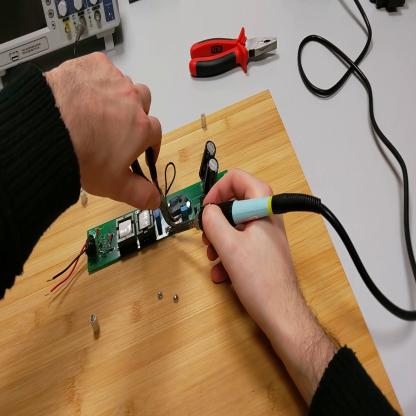hand: (42, 53, 171, 214), (201, 169, 302, 332)
high voltage board: (45, 142, 228, 297)
oscilloscope: (2, 2, 122, 80)
pliers: (188, 24, 281, 83), (132, 153, 175, 227)
welder base: (370, 1, 406, 17)
welder probe tip: (166, 192, 322, 235)
working area: (2, 91, 406, 414)
